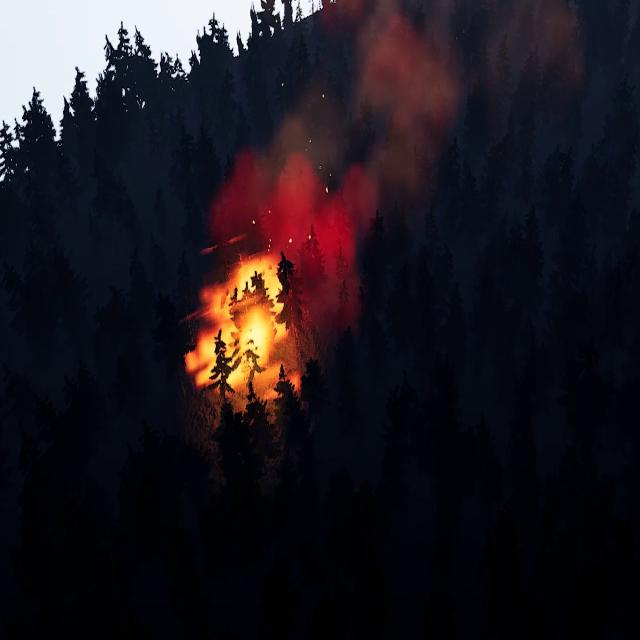fire: (183, 252, 291, 388)
smoke: (208, 0, 584, 326)
